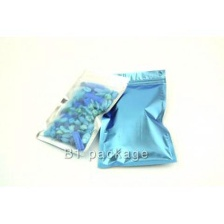snack: (31, 57, 135, 160), (90, 64, 181, 173)
